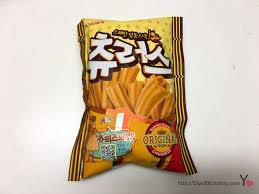snack: (67, 16, 197, 182)
